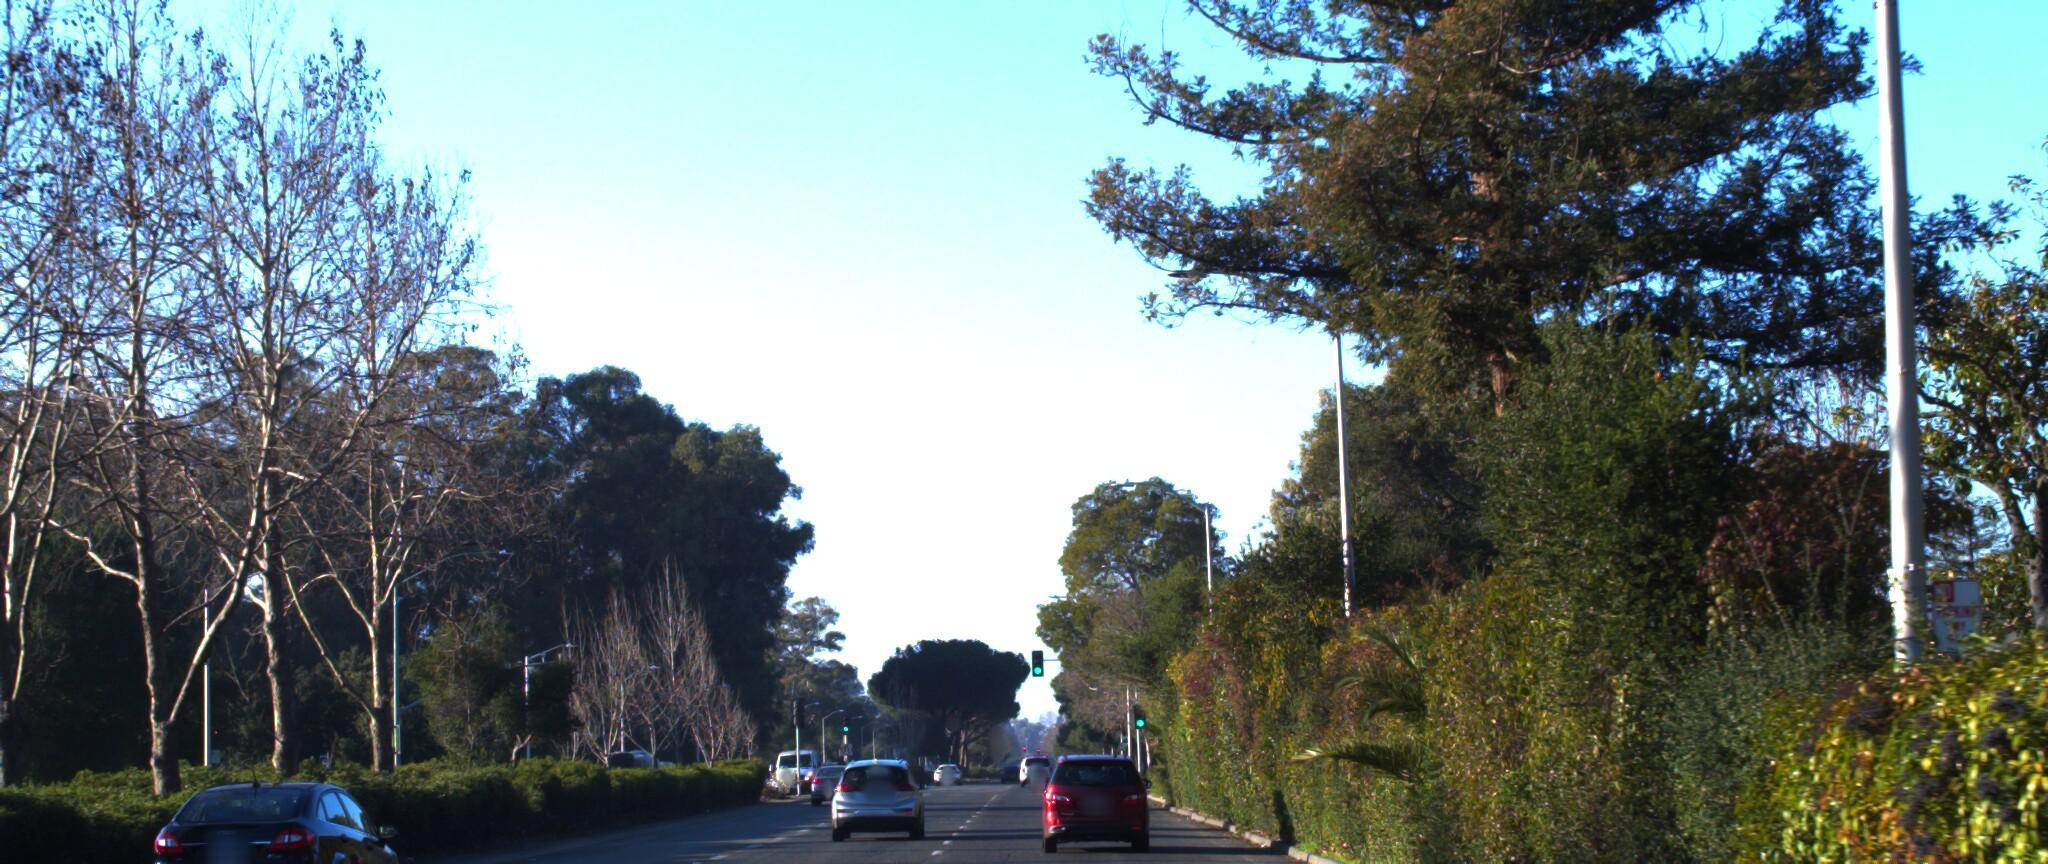car: (120, 764, 415, 864), (1031, 743, 1145, 842), (815, 737, 920, 831)
